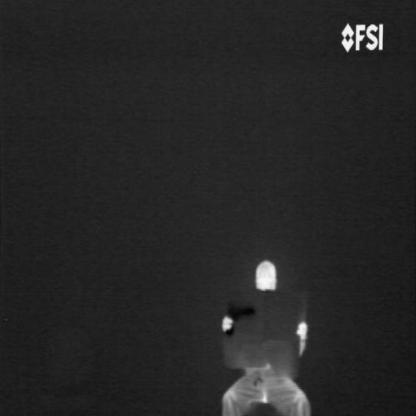weapon: (225, 301, 259, 342)
